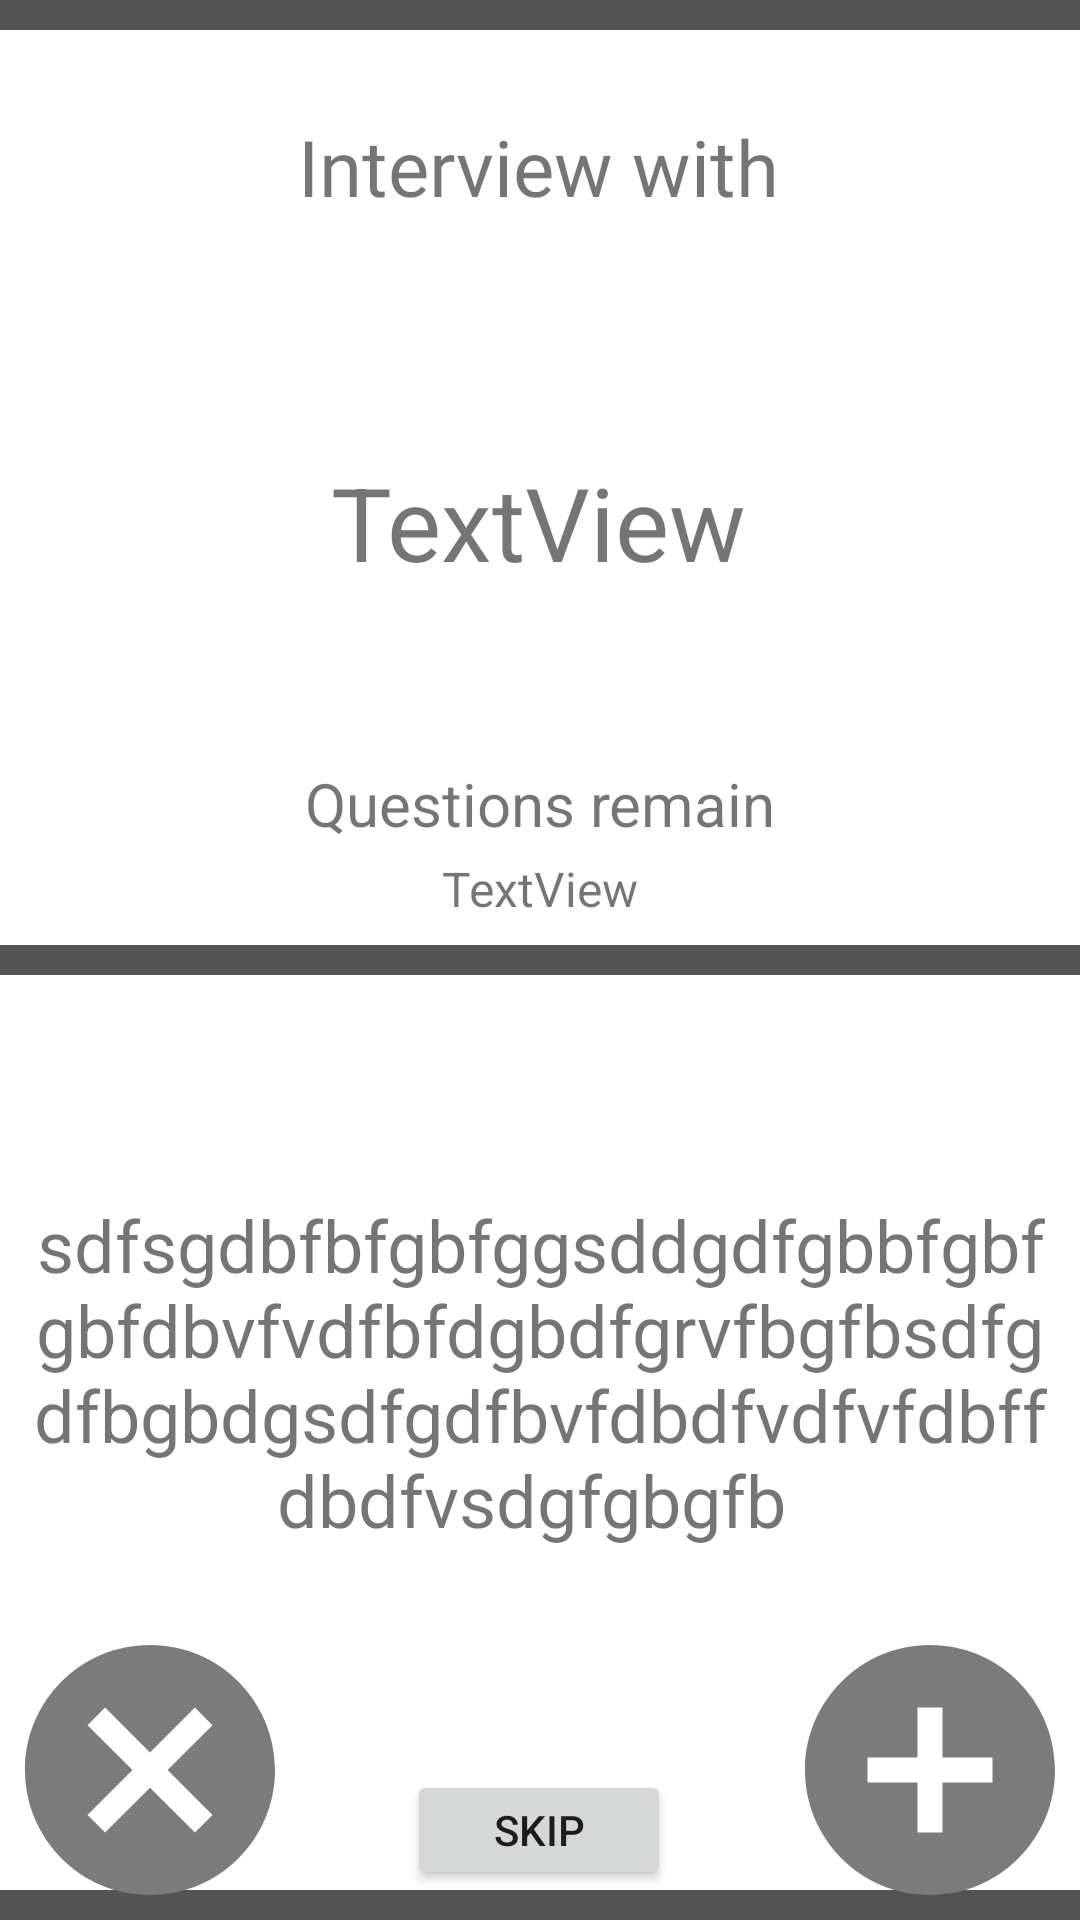

Icons on this 1080×1920 Android screen, each with the point to tap as point (x, y):
add circle: point (930, 1782)
cancel: point (150, 1782)
